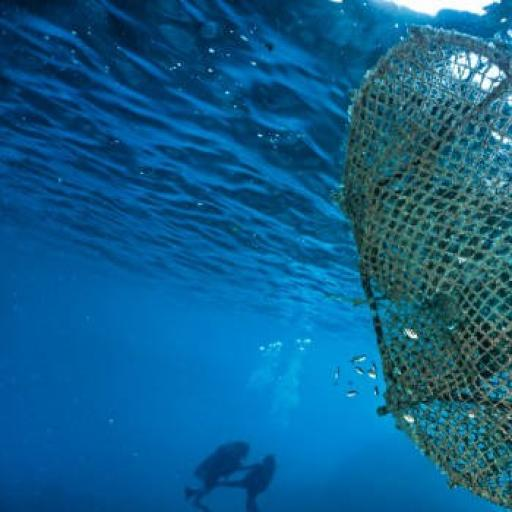net: (341, 19, 512, 512)
